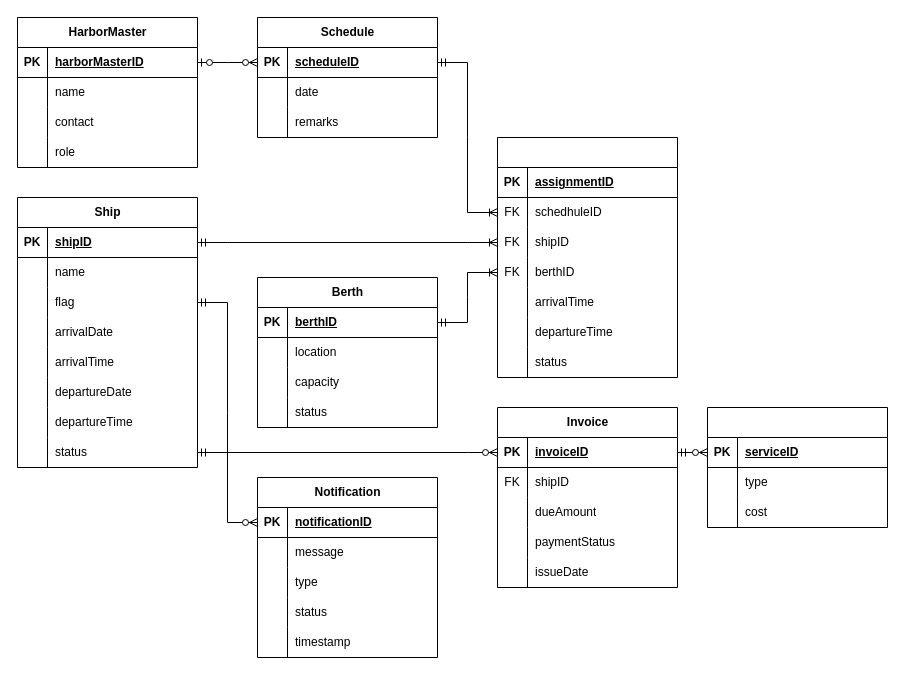
Image size: 905x675. Some labels were removed from this diagram. The box of each missing label's shape, as (x1, y1, x2, y2) in pixels:
BerthAssignment: (496, 136, 678, 378)
PortService: (706, 406, 888, 528)
